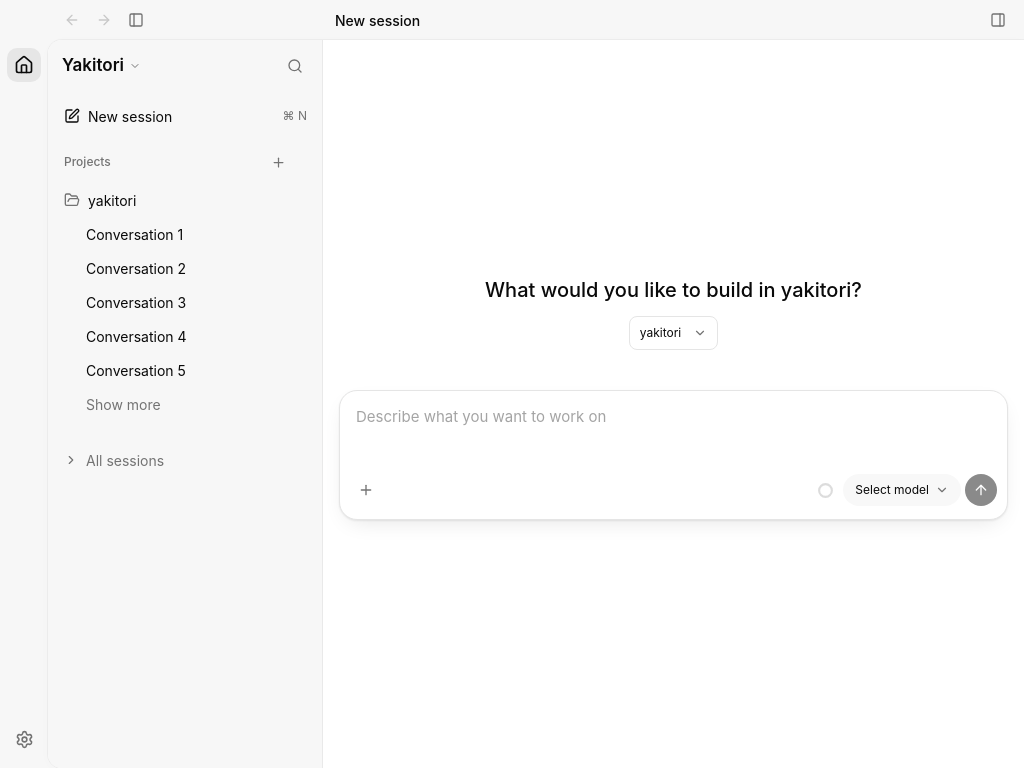
reveals older project conversations without refetching already loaded rows
expect the button "Conversation 5" is shown: met, box [56,354,270,386]
expect the button "Conversation 6" is not shown: met
Step 1. Click the button "Show more" → click(112, 404), box [56,388,169,420]
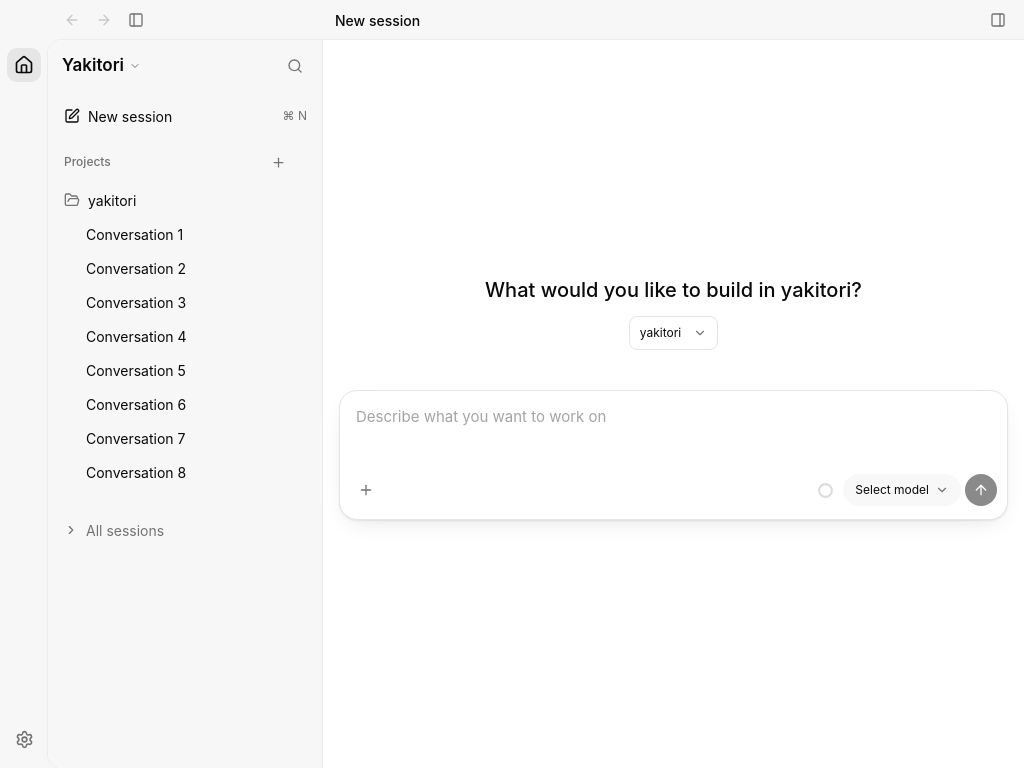
expect the button "Conversation 8" is shown: met, box [56,456,270,488]
